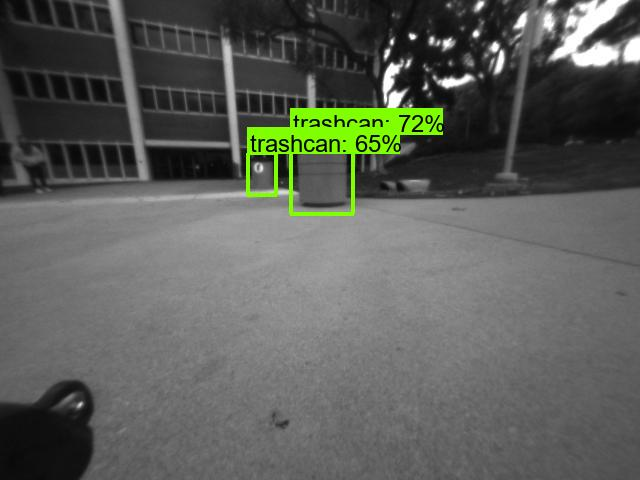trashcan: (295, 137, 351, 211), (248, 153, 279, 189)
